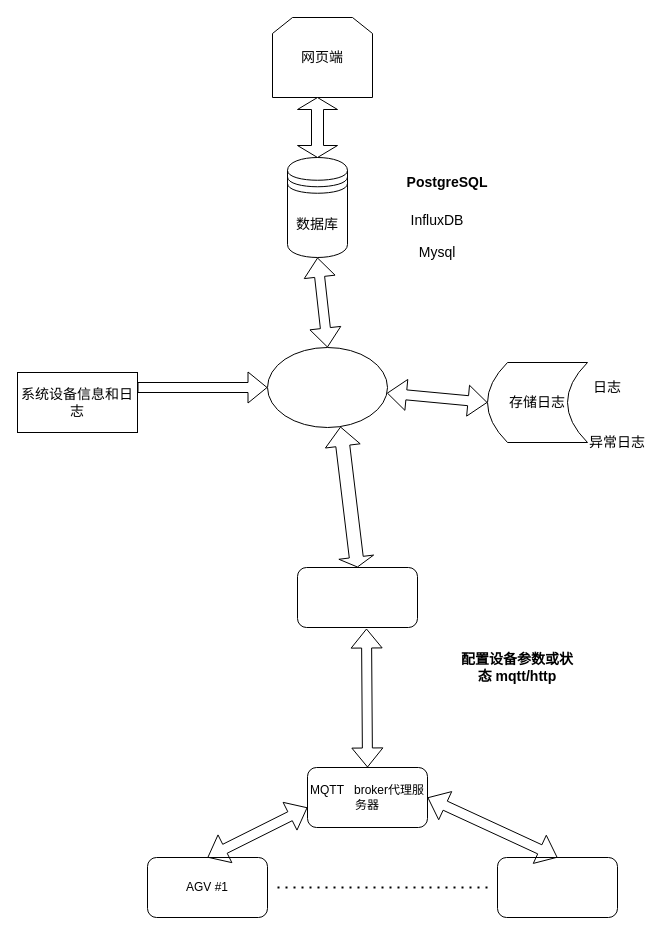
This 665x935 diagram has some shape labels left out. Each missing label, with the centre of its shape:
AGV #n: the point at 557,887
PC端或服务器端: the point at 357,597
Telegraf: the point at 327,387
